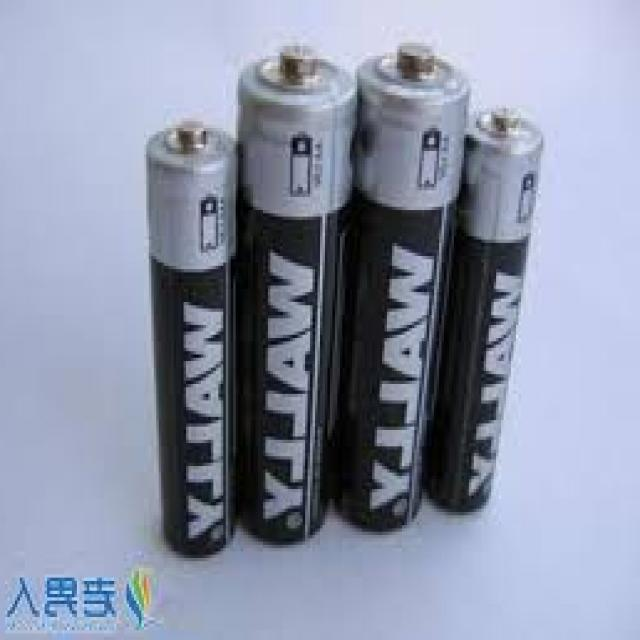battery: (329, 43, 481, 535), (235, 41, 358, 544), (414, 103, 548, 513), (142, 119, 240, 556)
